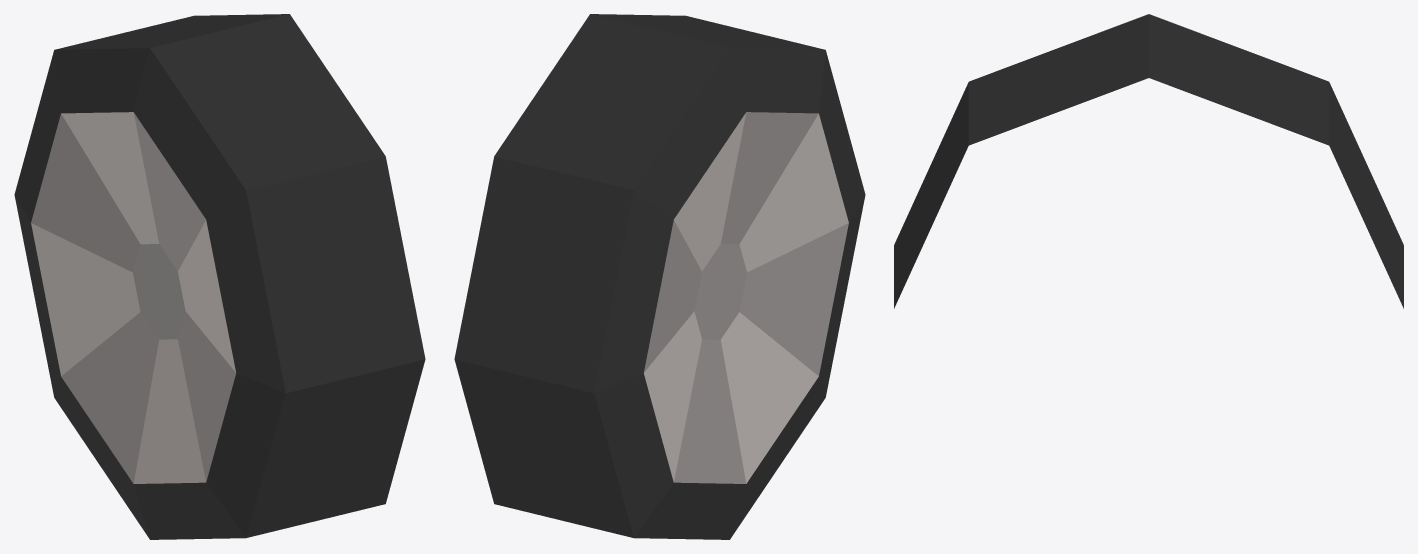
File: car-passenger-race-wheel_FR.glb
The picture shows the model from 3 angles, left to right: view 1: azimuth 30°, elevation 25°; view 2: azimuth 150°, elevation 25°; view 3: azimuth 270°, elevation 25°; orthographic projection. The views are drawn at different scales.
Visible parts, largest first — view 1: car-passenger-race-wheel_FR; view 2: car-passenger-race-wheel_FR; view 3: car-passenger-race-wheel_FR.
Part boxes in pixels (x1,y1,x2,y2): car-passenger-race-wheel_FR: (14, 14, 425, 539); car-passenger-race-wheel_FR: (454, 14, 865, 539); car-passenger-race-wheel_FR: (894, 14, 1403, 308).
Bounding box in the file's own units: 0.2557 × 0.696 × 0.696.
1 material, 1 textured.
